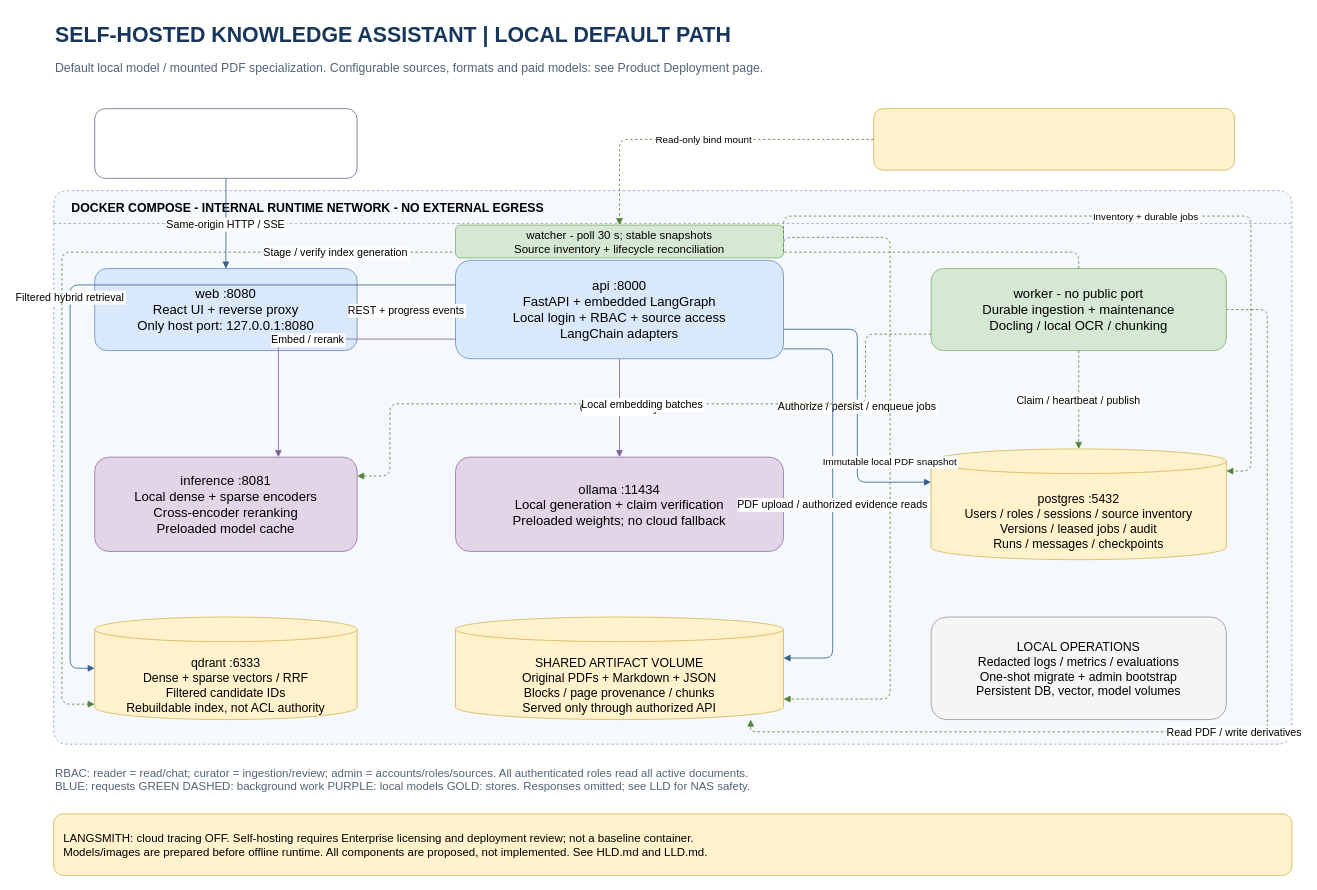
Some shapes in this 1317 by 890 pixel diagram are drawn without their labels. Each missing label, with the centre of its shape:
"COMPANY USER / ADMIN Browser: chat, uploads, PDF viewer" belongs at pixel 225 143.
"NAS SMB SHARE (HOST-MOUNTED) Read-only service account; host-held credentials" belongs at pixel 1054 139.
